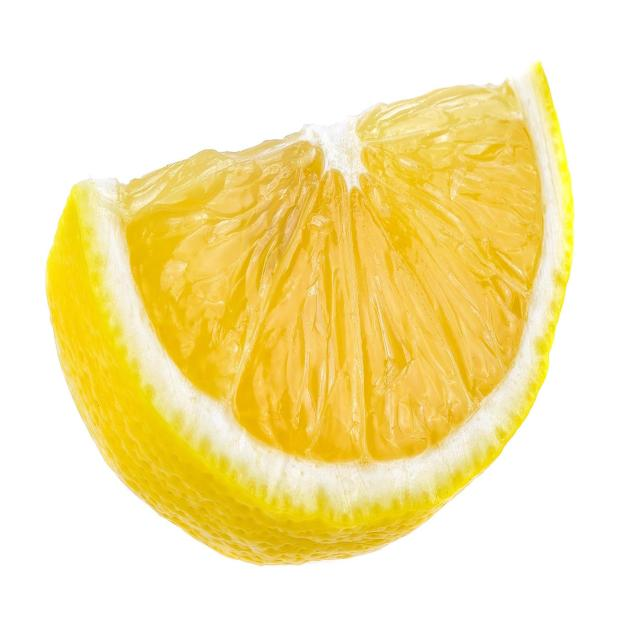lemon: (35, 57, 578, 574)
